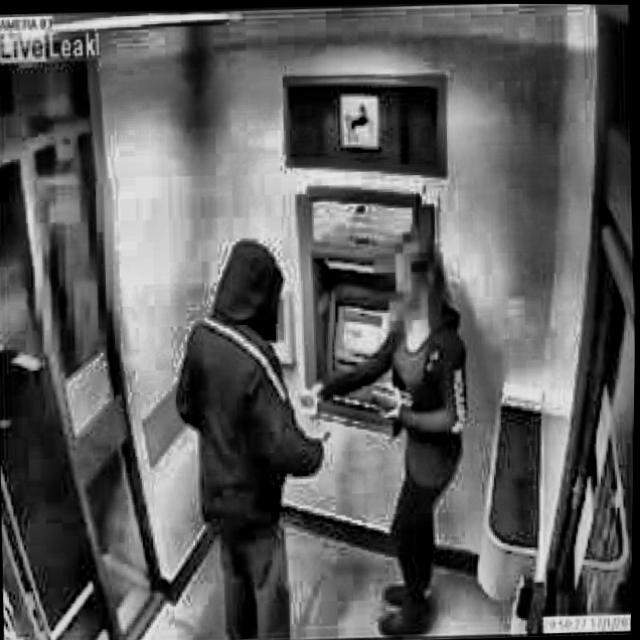robbery: (166, 222, 481, 640)
